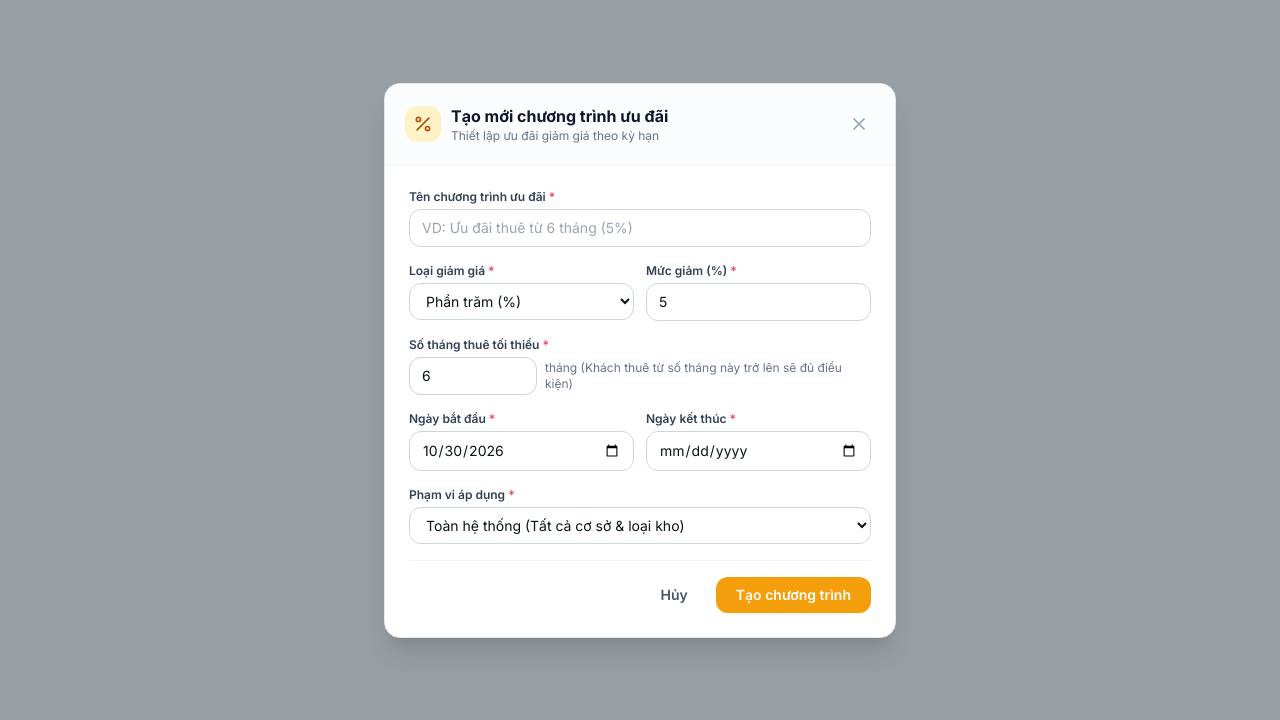
Test case: BOM Discount Program Management Components › DiscountProgramModal › validate form khi submit trống
Bấm submit ngay khi tên chưa nhập
Click the button "Tạo chương trình": click(793, 594) [716, 576, 871, 612]
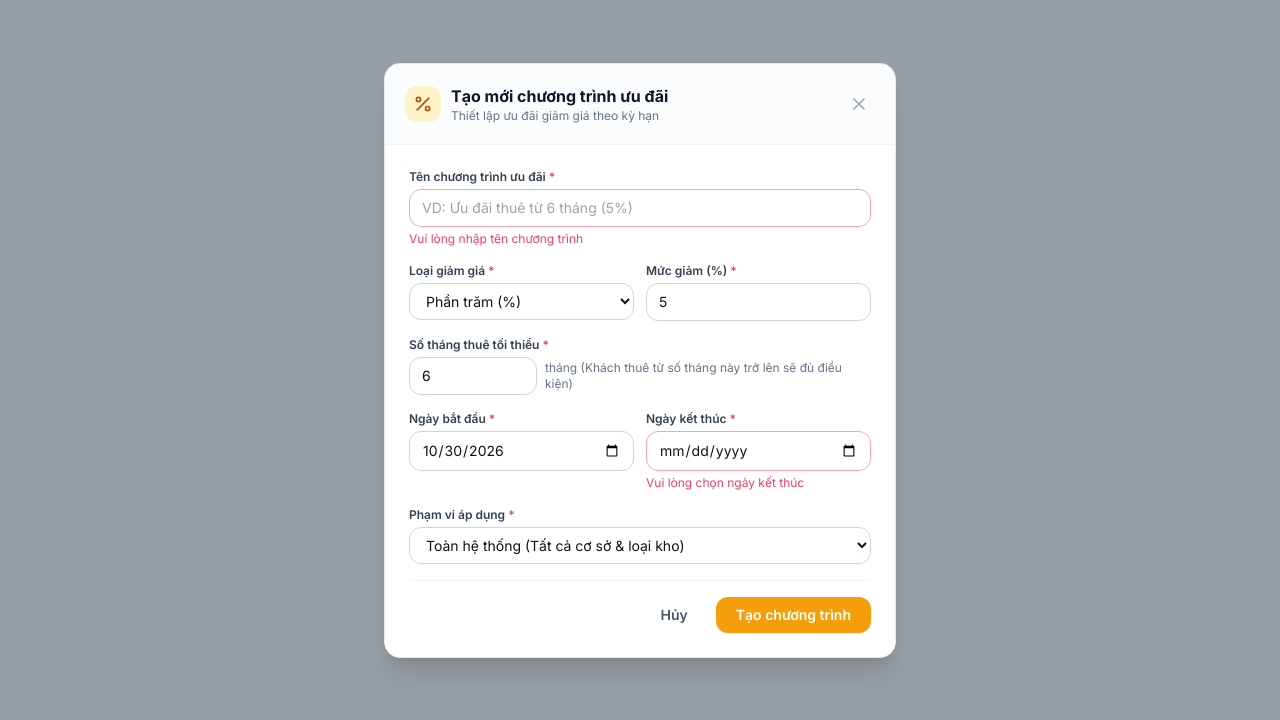
Expected: the text "Vui lòng nhập tên chương trình" is shown, [409, 230, 583, 246]
